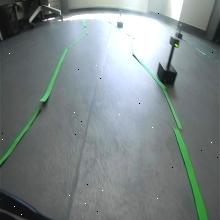green: (169, 34, 180, 48)
